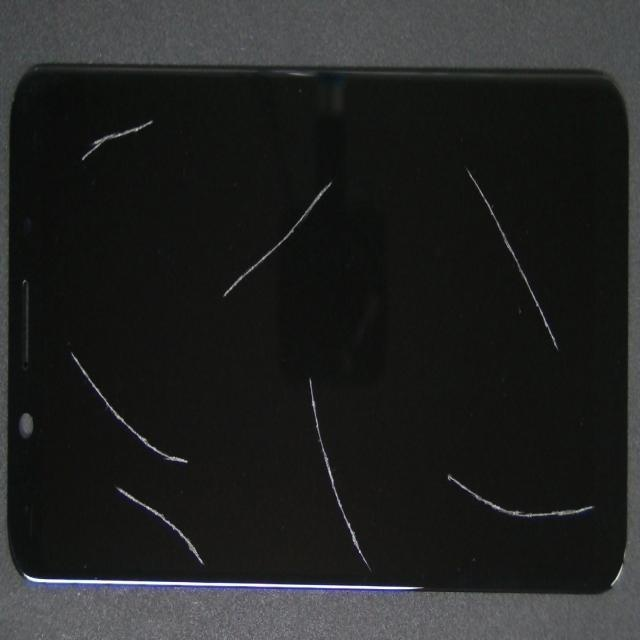scratch: (352, 237, 640, 640), (207, 317, 553, 640), (219, 60, 640, 307), (77, 241, 278, 640), (226, 21, 445, 299), (157, 304, 274, 640), (116, 42, 195, 175)
